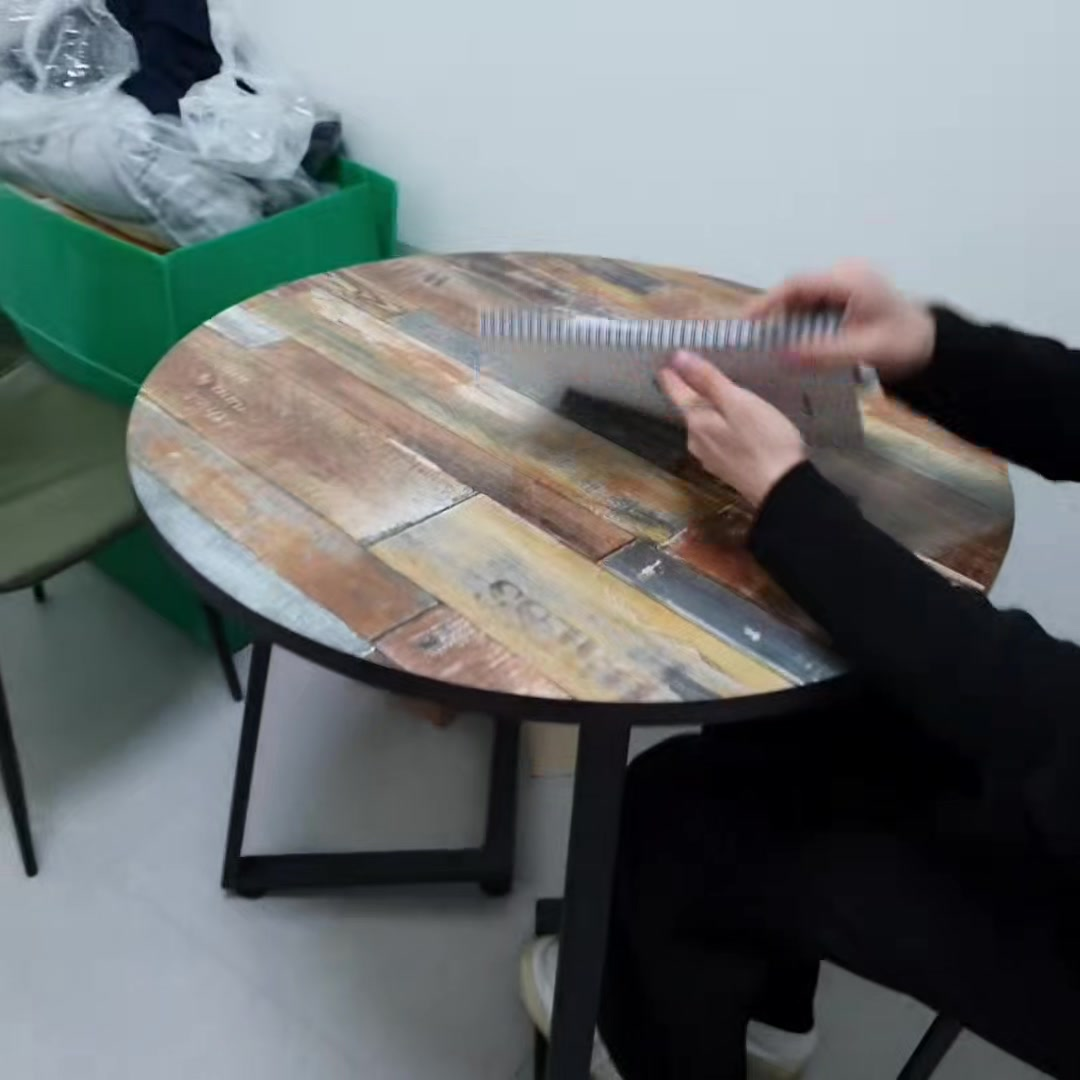book: (476, 304, 870, 451)
